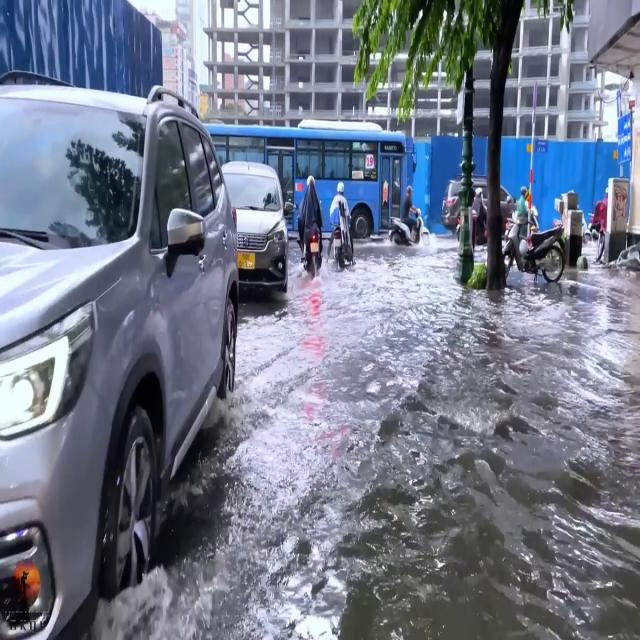bien_vang: (236, 249, 257, 275)
